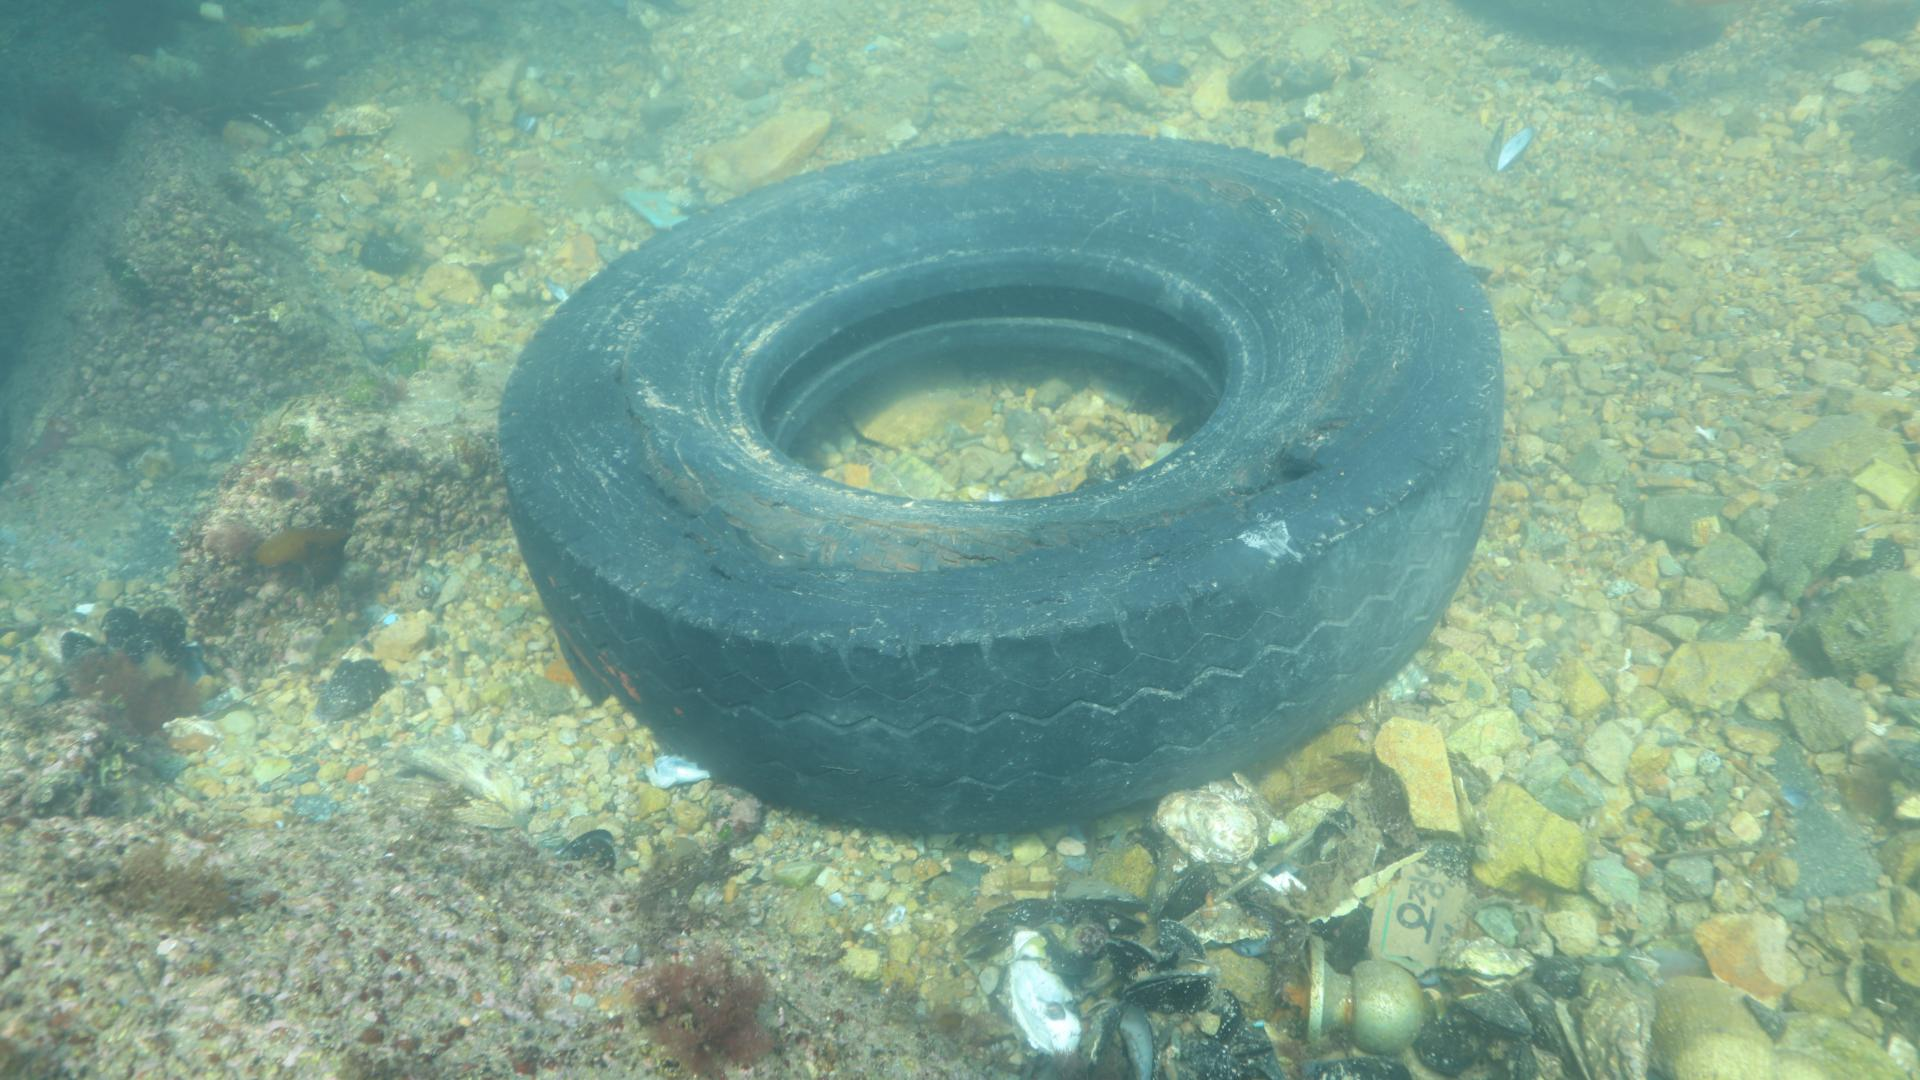tire: (498, 132, 1502, 828)
